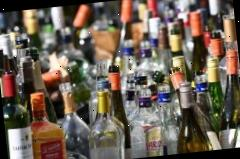glass: (0, 8, 240, 159)
